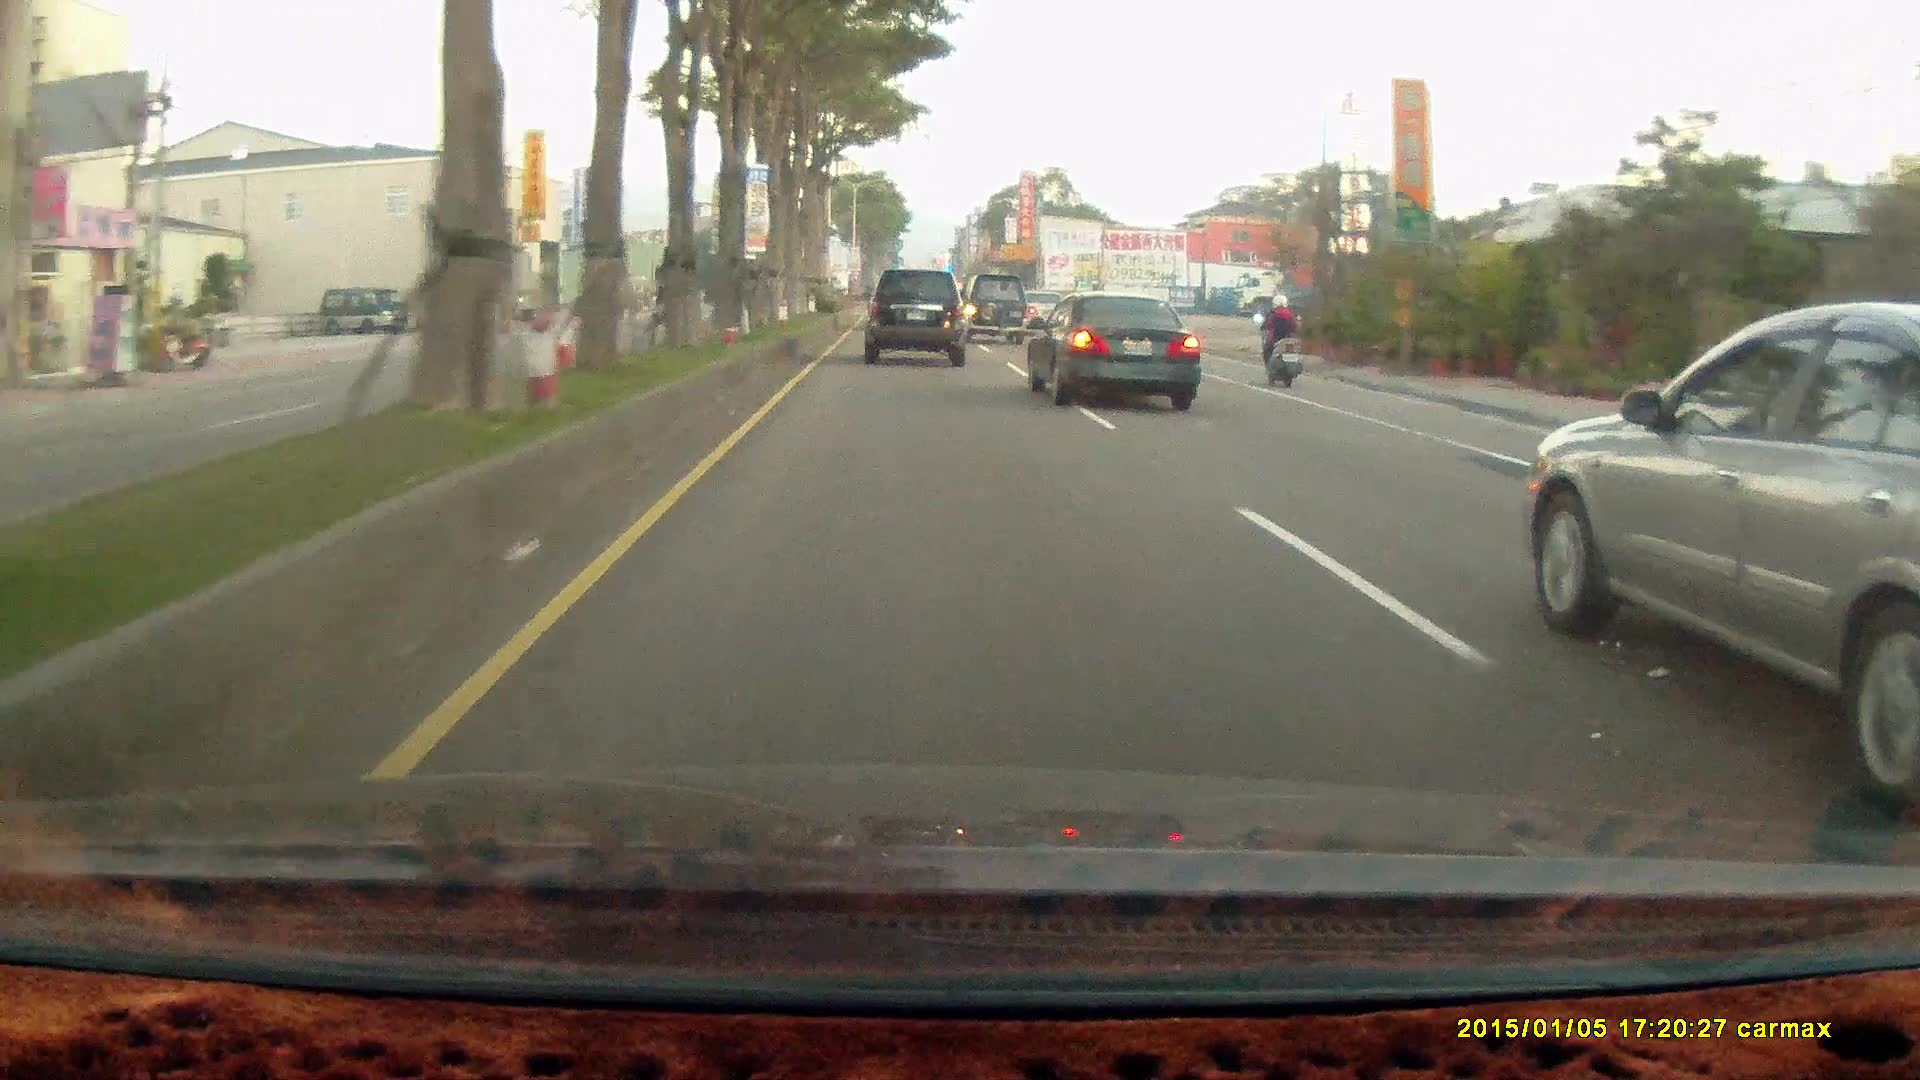rider: (1246, 285, 1314, 397), (1252, 289, 1302, 385)
vehicle: (1519, 292, 1919, 814), (1026, 288, 1206, 406), (1026, 288, 1200, 410), (1238, 267, 1454, 319), (862, 265, 972, 365), (861, 265, 966, 363), (318, 282, 422, 336), (957, 272, 1030, 347), (317, 286, 410, 335)
